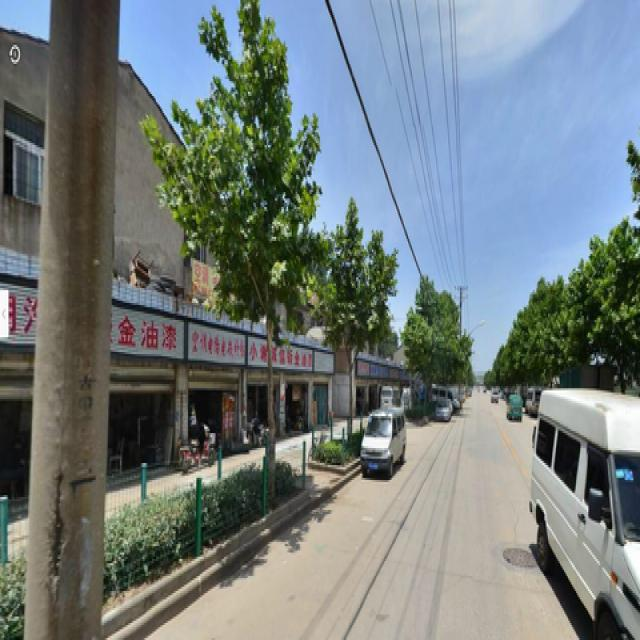meta: (171, 4, 332, 487)
